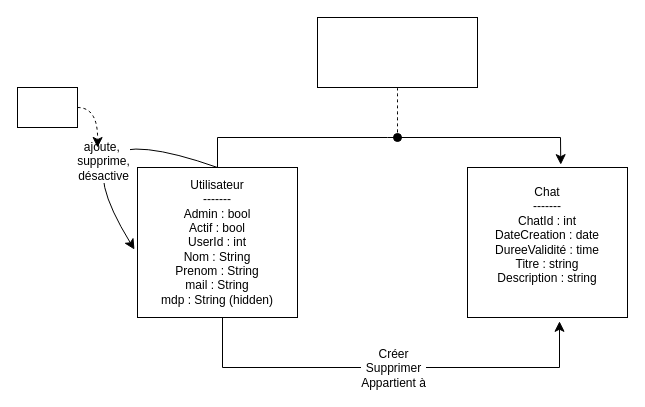
This 645x407 diagram has some shape labels left out. The box of each missing label's shape, as (x1, y1, x2, y2) in pixels:
Appartenance ------ ChatId UserID: (316, 16, 478, 88)
que admin: (16, 86, 78, 128)
